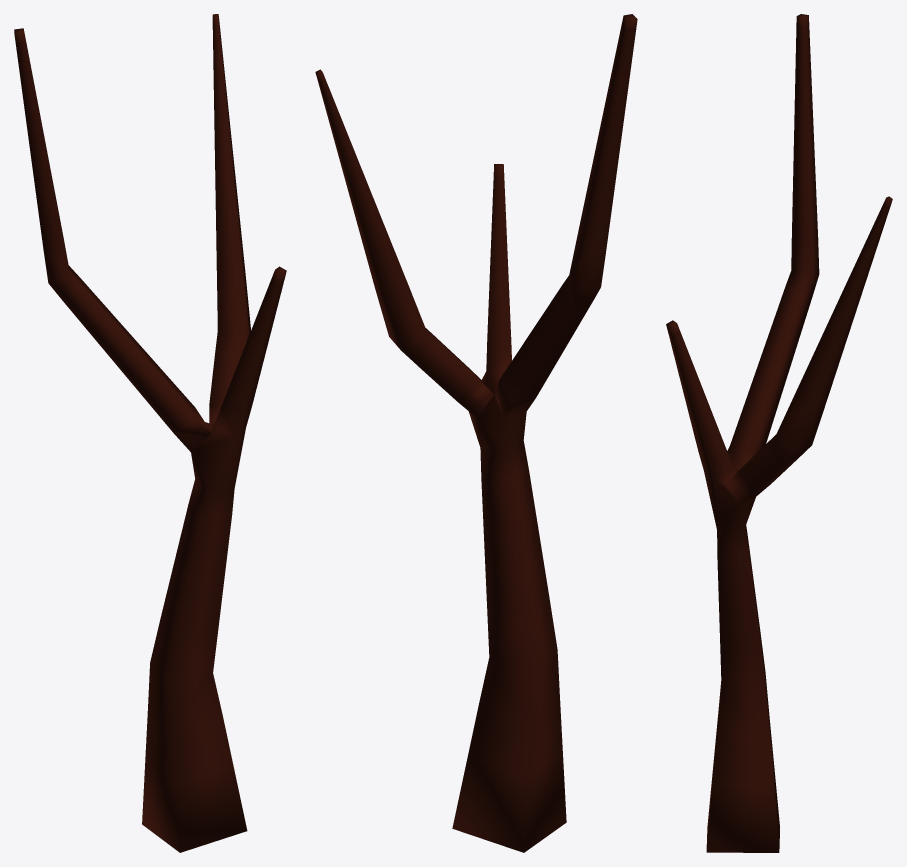
The model's file is KohmTreeSmall-Trunk.obj.
The picture shows the model from 3 angles, left to right: view 1: azimuth 30°, elevation 25°; view 2: azimuth 150°, elevation 25°; view 3: azimuth 270°, elevation 25°; orthographic projection. The views are drawn at different scales.
Parts seen in each view (by area): view 1: Cube.003; view 2: Cube.003; view 3: Cube.003.
Boxes of the visible parts, box(x1,y1,x2,y2) form: Cube.003: box(14, 14, 286, 852); Cube.003: box(315, 14, 637, 852); Cube.003: box(666, 14, 892, 852).
Bounding box in the file's own units: 5.72 × 17.66 × 4.76.
